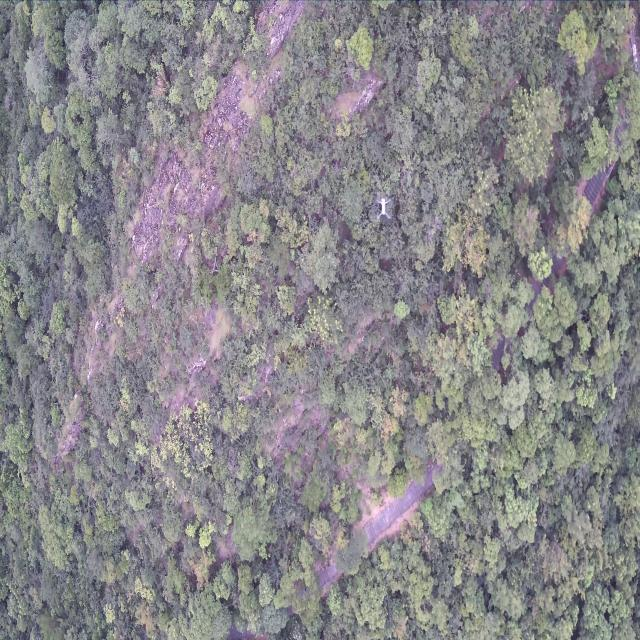UAV: (376, 198, 392, 221)
